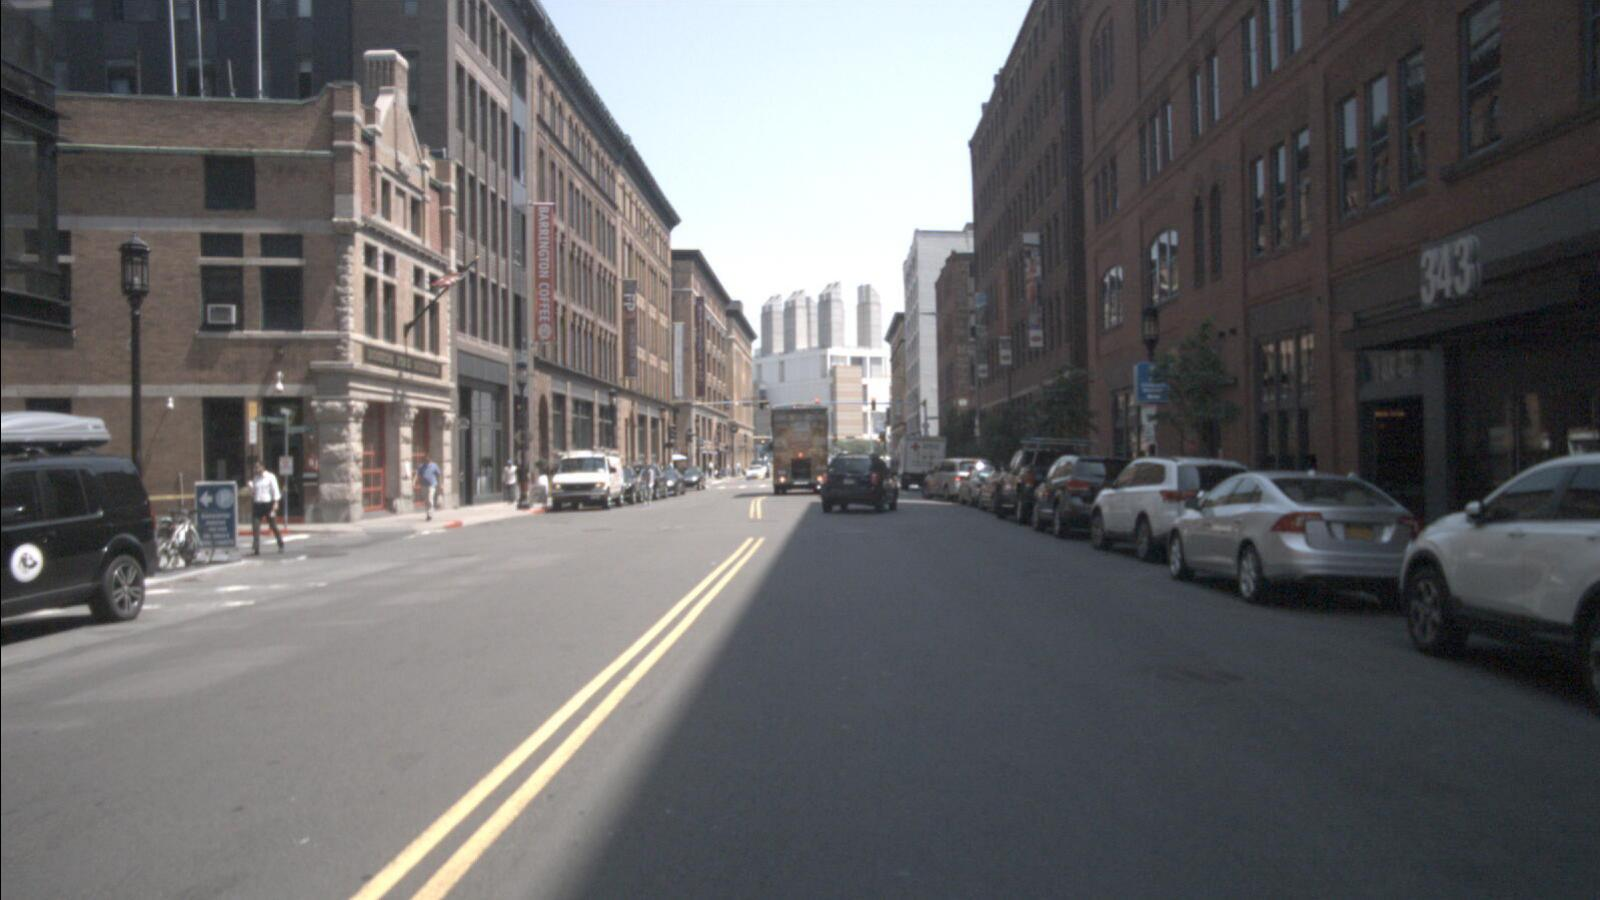human.pedestrian.adult-pedestrian.moving: (246, 459, 285, 556), (412, 454, 444, 522), (502, 460, 519, 504)
